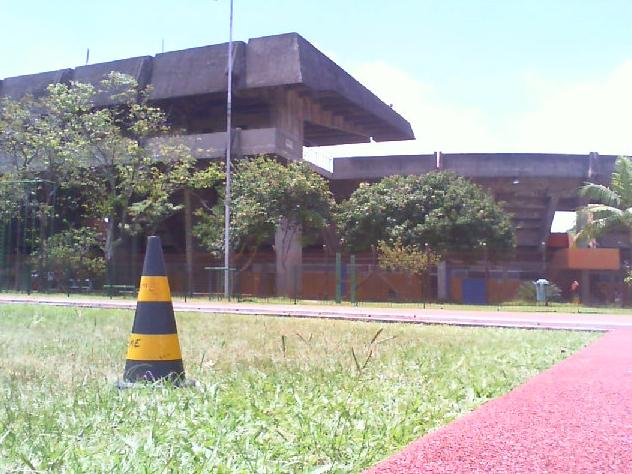0 cone: (115, 236, 195, 391)
